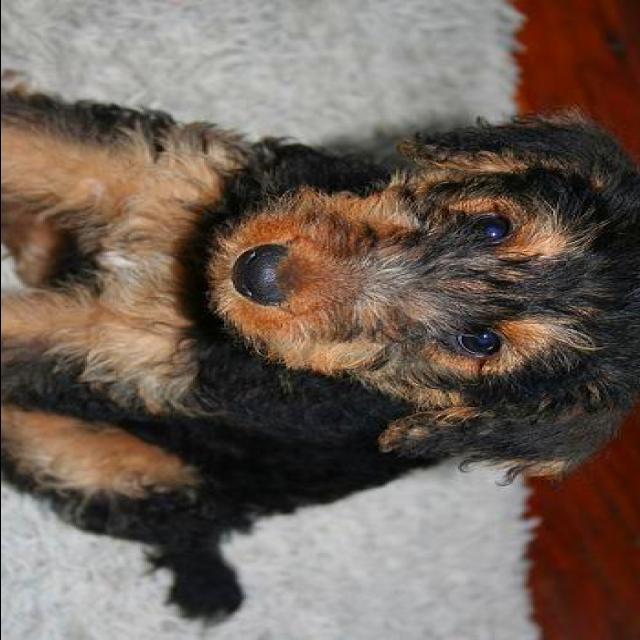airedale: (8, 91, 640, 619)
